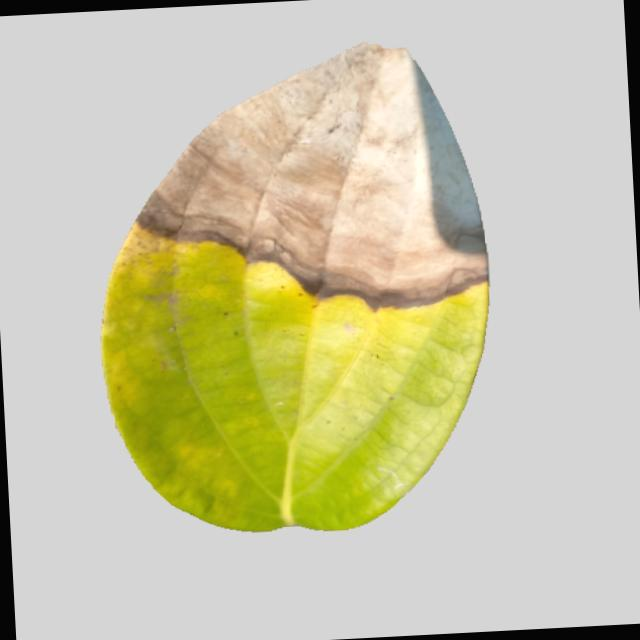leaf-blight: (69, 32, 518, 534)
